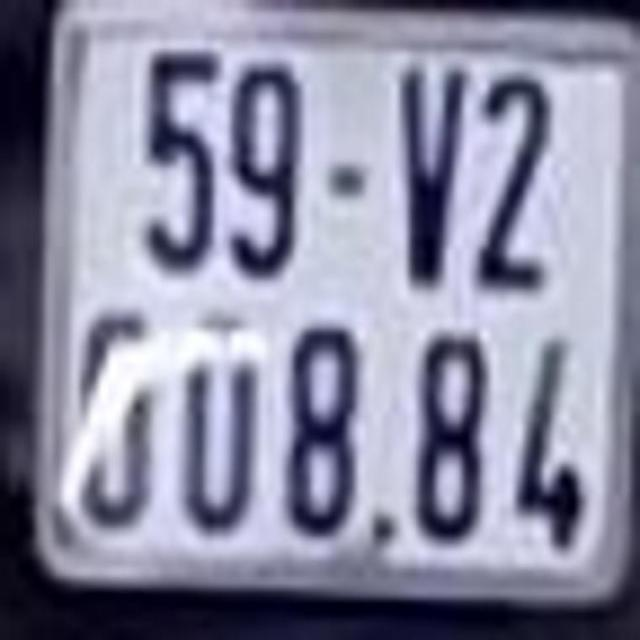0: (180, 312, 258, 535), (77, 314, 155, 527)
2: (478, 67, 548, 295)
4: (508, 329, 584, 562)
5: (141, 44, 222, 279)
8: (412, 314, 487, 546), (286, 311, 357, 538)
9: (228, 50, 298, 281)
V: (398, 66, 472, 288)
